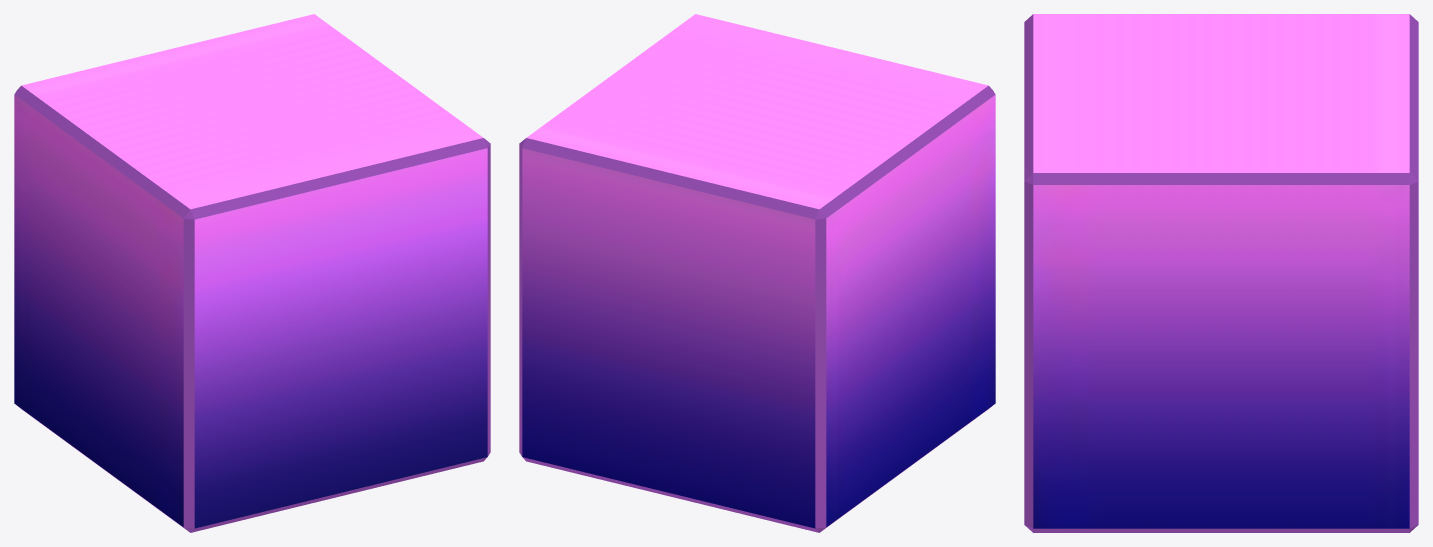
Rendered from CyberPunkCubeShapeB.010.glb.
3 renders of one model, left to right at view 1: azimuth 30°, elevation 25°; view 2: azimuth 150°, elevation 25°; view 3: azimuth 270°, elevation 25°, orthographic. The views are drawn at different scales.
Parts seen in each view (by area): view 1: CyberPunkCubeShapeB.010; view 2: CyberPunkCubeShapeB.010; view 3: CyberPunkCubeShapeB.010.
Part boxes in pixels (box(x1,y1,x2,y2)): CyberPunkCubeShapeB.010: box(14, 14, 490, 532); CyberPunkCubeShapeB.010: box(519, 14, 995, 532); CyberPunkCubeShapeB.010: box(1024, 14, 1418, 532).
Size of what is drawn, in the model's own units: 0.7415 by 0.7467 by 0.7415.
Materials: 2 (2 with a texture image).
